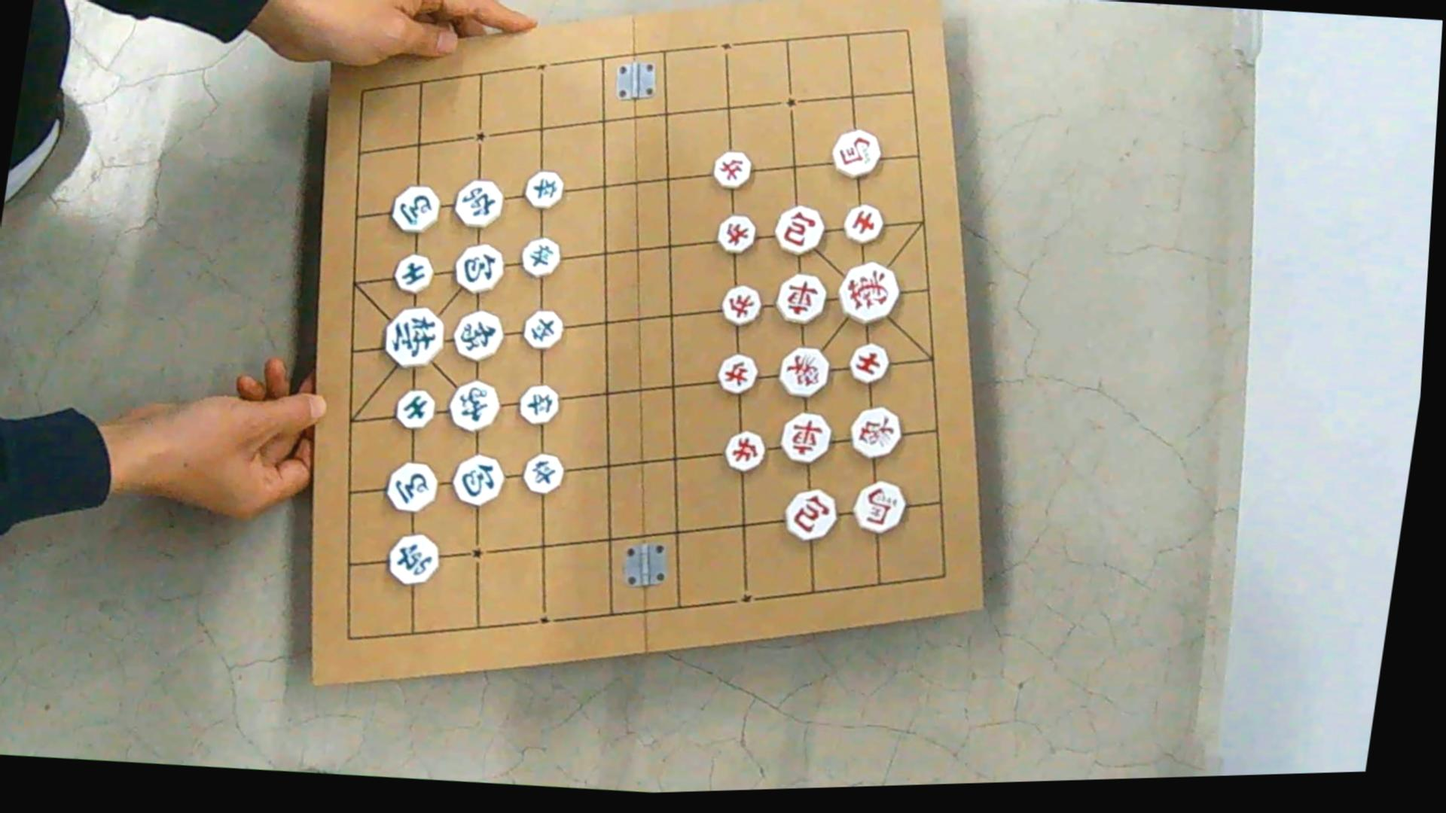cha_green: (450, 175, 507, 229), (386, 531, 441, 584)
cha_red: (776, 410, 832, 464), (773, 270, 828, 324)
jol_green: (520, 306, 566, 351), (515, 382, 560, 425), (518, 234, 561, 278), (520, 451, 564, 494), (523, 168, 564, 209)
jol_red: (721, 428, 767, 472), (719, 282, 762, 326), (715, 350, 758, 394), (709, 148, 753, 190), (714, 212, 756, 254)
ma_green: (383, 460, 438, 513), (387, 182, 442, 235)
ma_red: (850, 477, 907, 534), (828, 126, 883, 179)
po_green: (449, 452, 505, 507), (451, 241, 505, 294)
po_red: (781, 485, 839, 541), (771, 202, 826, 255)
sa_green: (393, 386, 436, 429), (391, 252, 434, 293)
sa_red: (847, 341, 890, 384), (840, 201, 884, 243)
sang_green: (444, 375, 503, 434), (449, 306, 506, 362)
sang_red: (846, 402, 905, 461), (774, 342, 832, 399)
wang_green: (379, 303, 447, 370)
wang_red: (833, 257, 905, 326)
